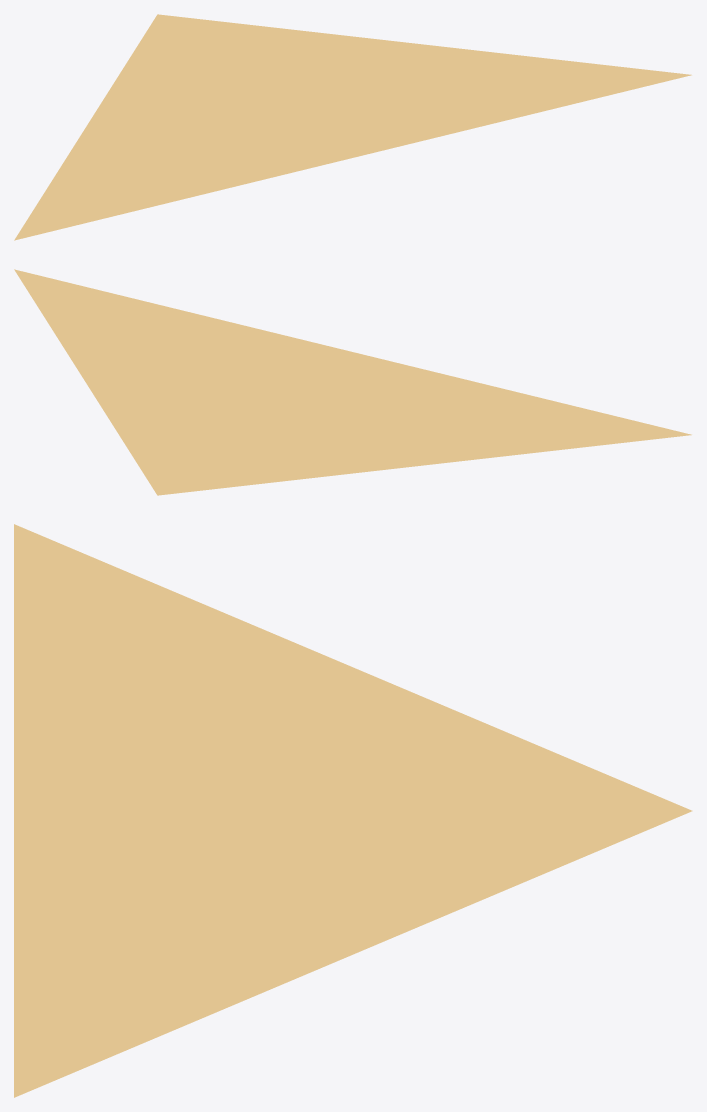
The model's file is bne_apron_pool.dae.
3 views of the same model, one above another, from view 1: azimuth 30°, elevation 25°; view 2: azimuth 150°, elevation 25°; view 3: azimuth 270°, elevation 25° (orthographic). The views are drawn at different scales.
Visible parts, largest first — view 1: pool2319; view 2: pool2319; view 3: pool2319.
Boxes of the visible parts, x1,y1,x2,y2 form: pool2319: (14, 14, 691, 240); pool2319: (14, 269, 691, 495); pool2319: (14, 524, 692, 1097).
Size of what is drawn, in the model's own units: 0.02 by 0.01 by 0.
